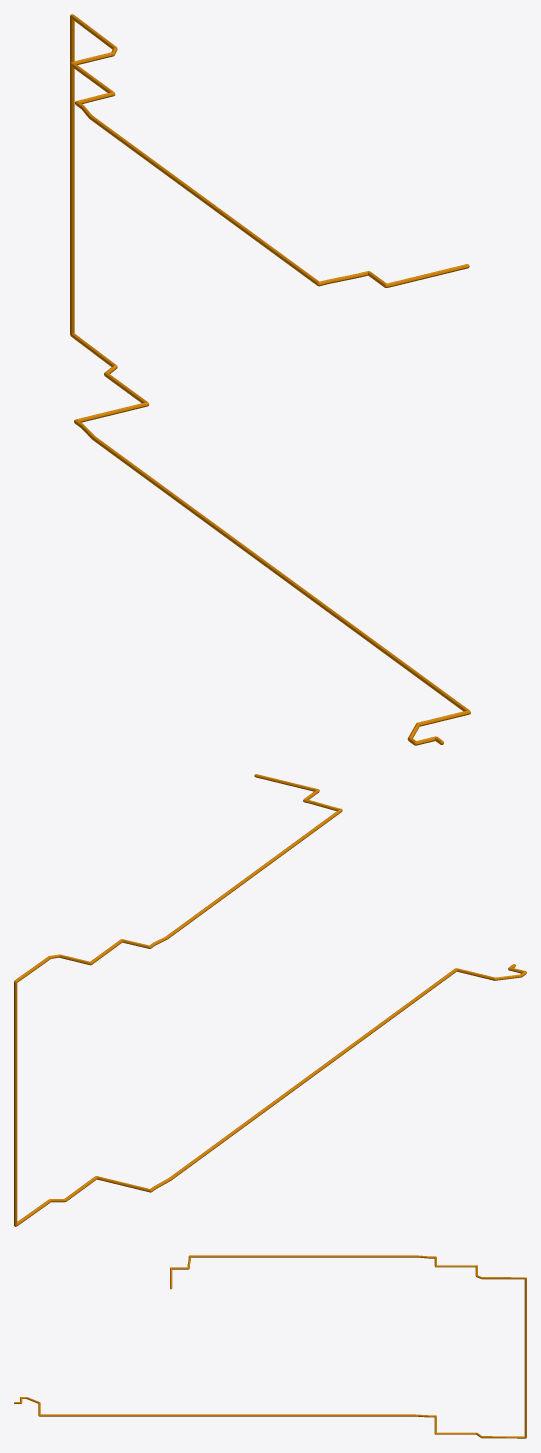
3 views of the same model, one above another, from view 1: azimuth 30°, elevation 25°; view 2: azimuth 150°, elevation 25°; view 3: azimuth 270°, elevation 25° (orthographic). The views are drawn at different scales.
Size of the model in its own units: 1015 by 1520 by 4383.
